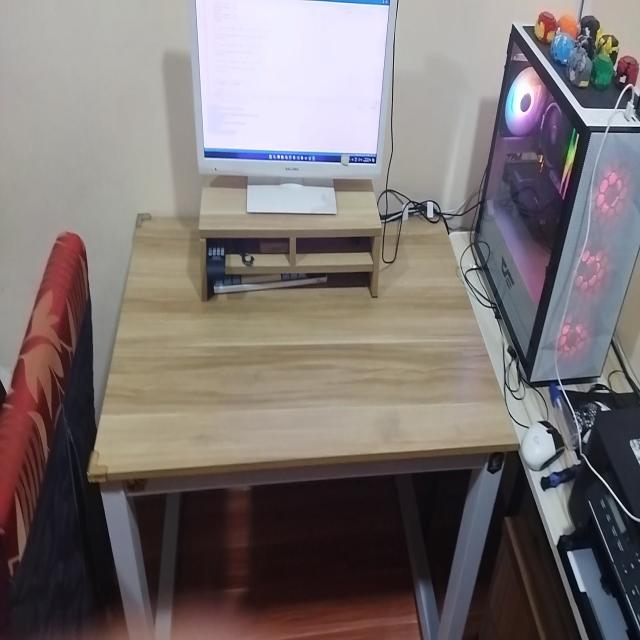table: (89, 197, 515, 640)
